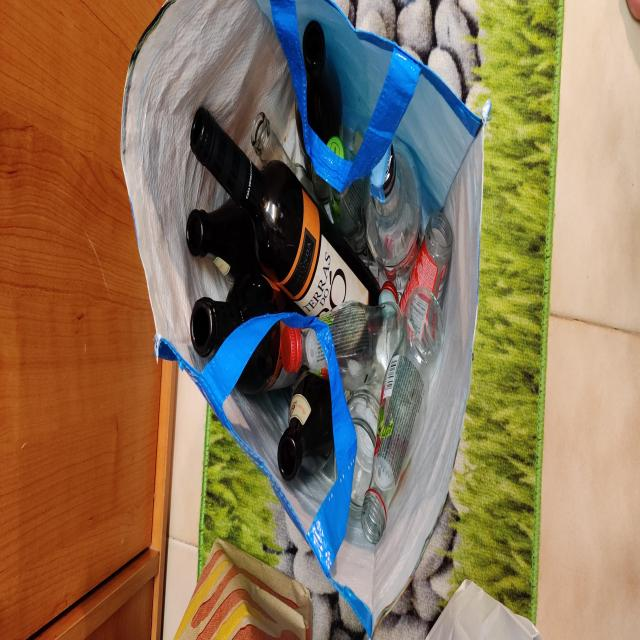litter: (188, 27, 448, 566)
